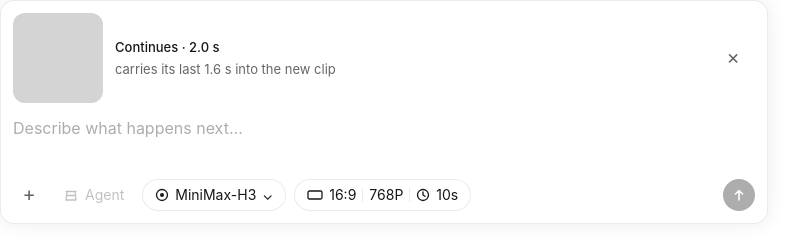
Test: Composer — extend mode (STORY_016, STORY_017) › Stop extending restores the normal composer and tells the page
This screenshot has width=785, height=241.
Expected: the button named "Video parameters:" is enabled, [294,179,471,211]
What coordinates should you click on to do the following:
click the button named "Stop extending"
I would click on:
 (733, 58)
Its box is [711,36,755,80].
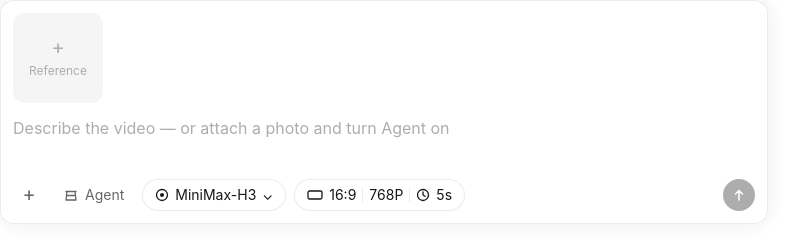
Expected: the button with aria-label "Model:" is enabled, [142,179,286,211]
Expected: the button with aria-label "Add reference image" is shown, [13,13,103,103]
Expected: the button named "Video parameters: 16:9 768P 5s" is shown, [294,179,465,211]
